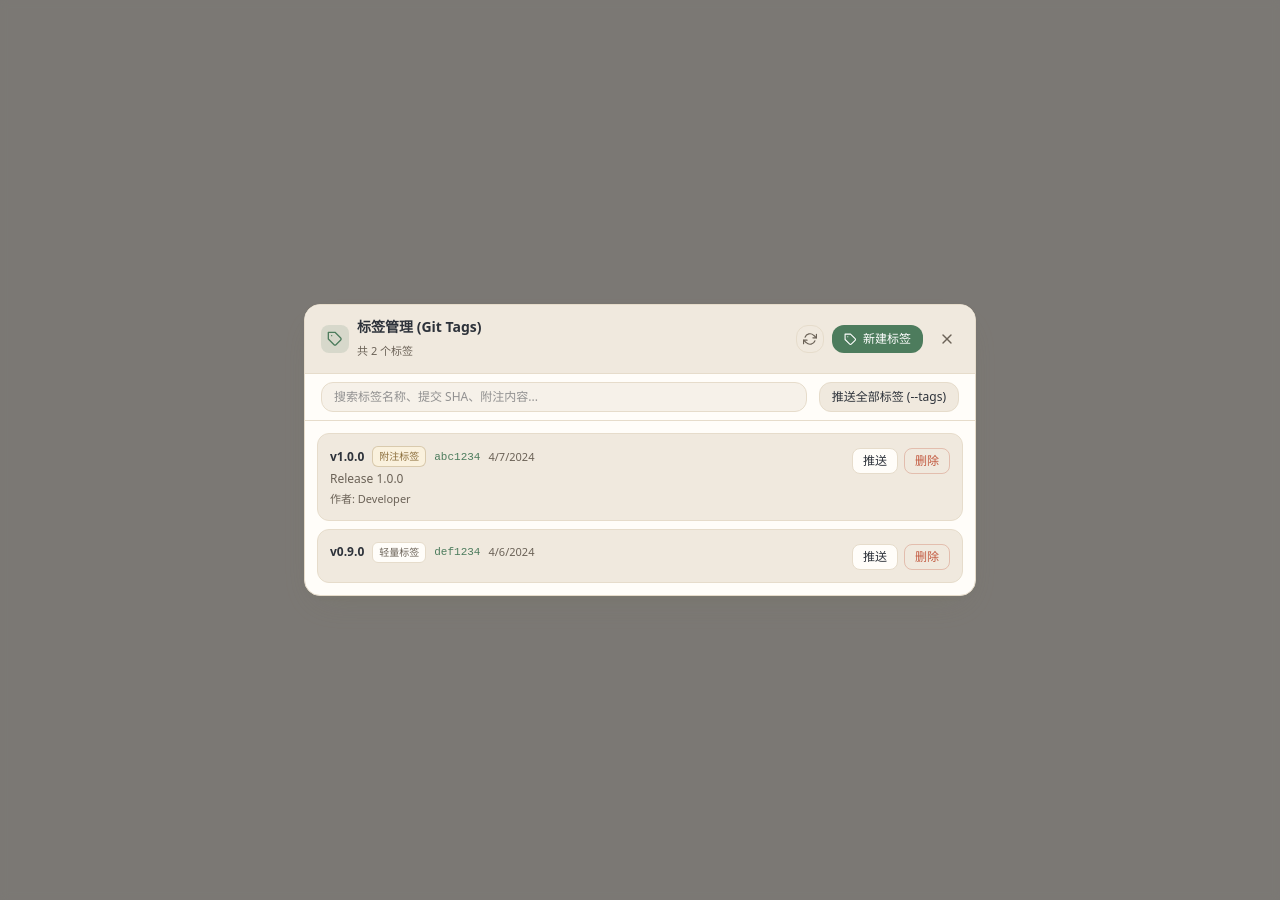
it: TagModal › loads and displays tag list and filters by keyword
Expected: the text "v1.0.0" is shown, [330,449,364,465]
Expected: the text "v0.9.0" is shown, [330,544,364,560]
// Filter by '1.0'
Type "1.0" into the field with placeholder "搜索标签名称、提交 SHA、附注内容..." at (564, 397), box [321,382,807,412]
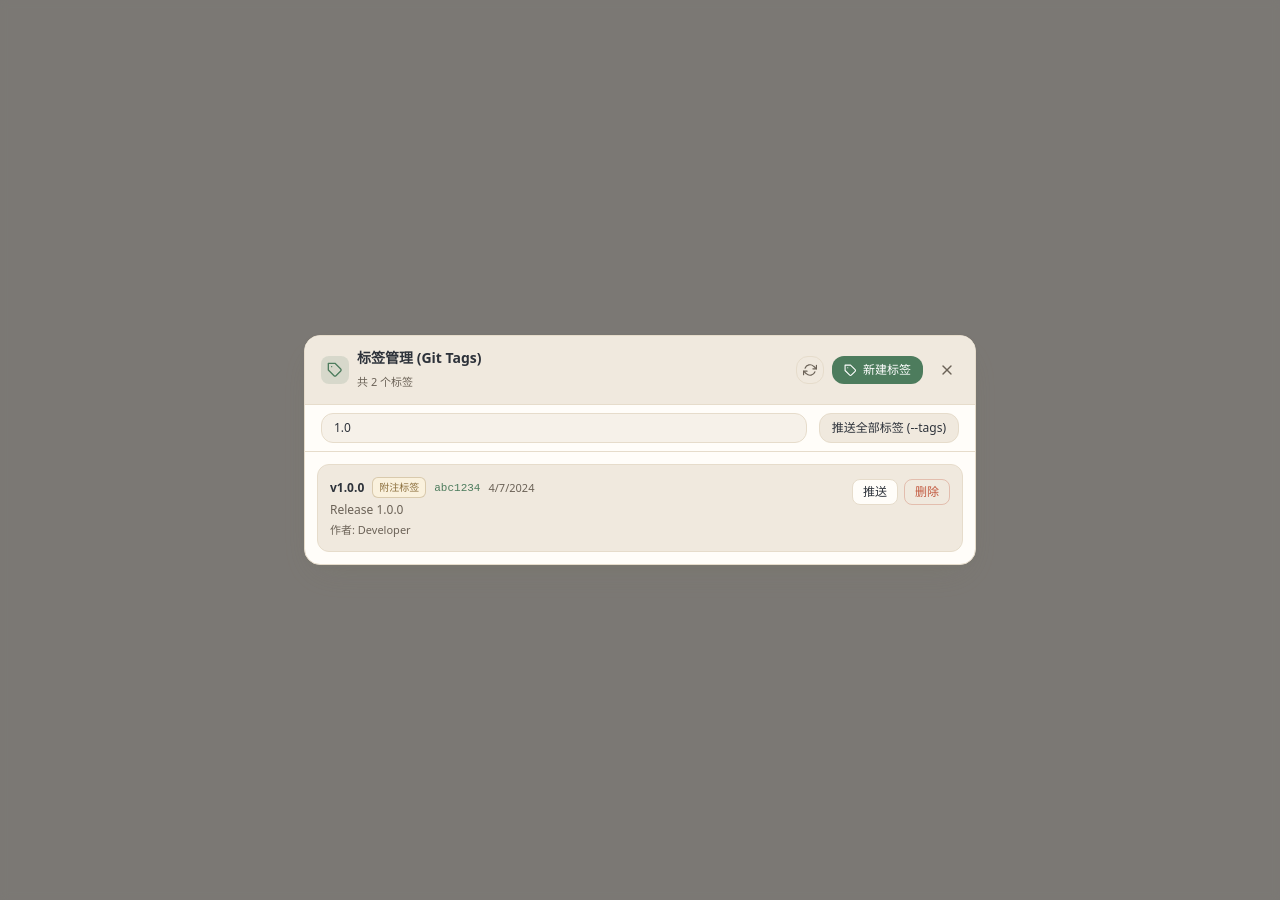
Expected: the text "v1.0.0" is shown, [330,480,364,496]
Now the text "v0.9.0" is gone
